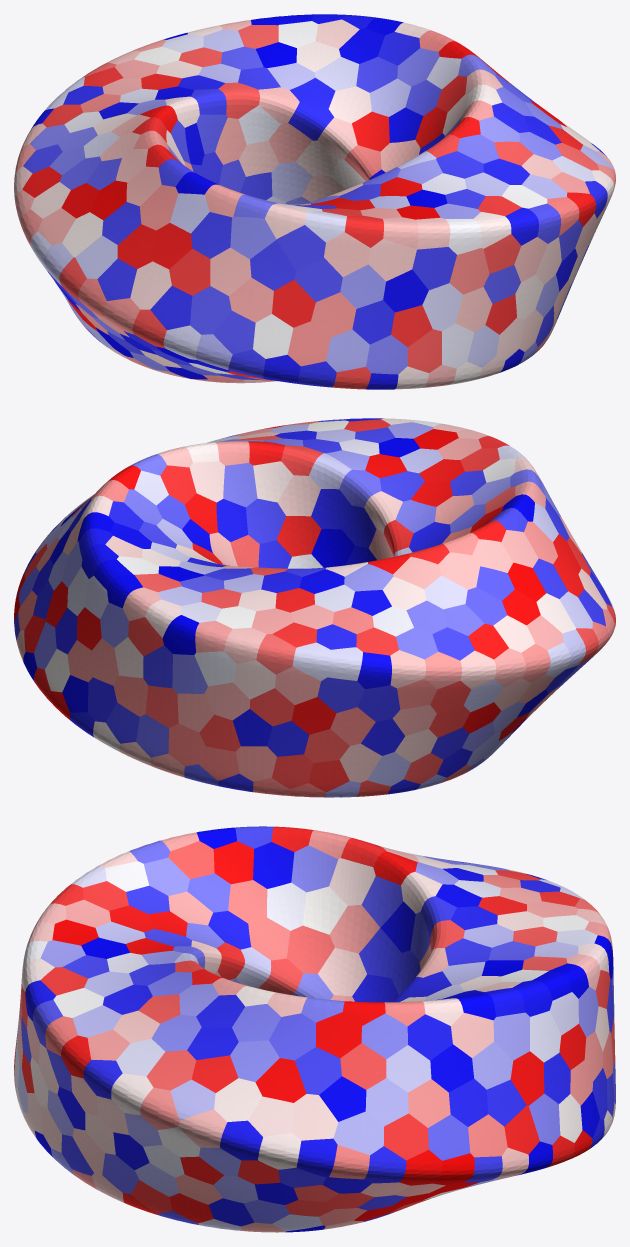
Rendered from Ours_600_mobius1_Iter29_RVD.obj.
3 renders of one model, top to bottom at view 1: azimuth 30°, elevation 25°; view 2: azimuth 150°, elevation 25°; view 3: azimuth 270°, elevation 25°, orthographic. The views are drawn at different scales.
Visible parts, largest first — view 1: 3D_Object; view 2: 3D_Object; view 3: 3D_Object.
Boxes of the visible parts, x1,y1,x2,y2 form: 3D_Object: [14, 14, 615, 389]; 3D_Object: [14, 418, 615, 797]; 3D_Object: [14, 826, 615, 1232].
Size of the model in its own units: 6.8 by 2.63 by 6.26.
1 material, 1 textured.
